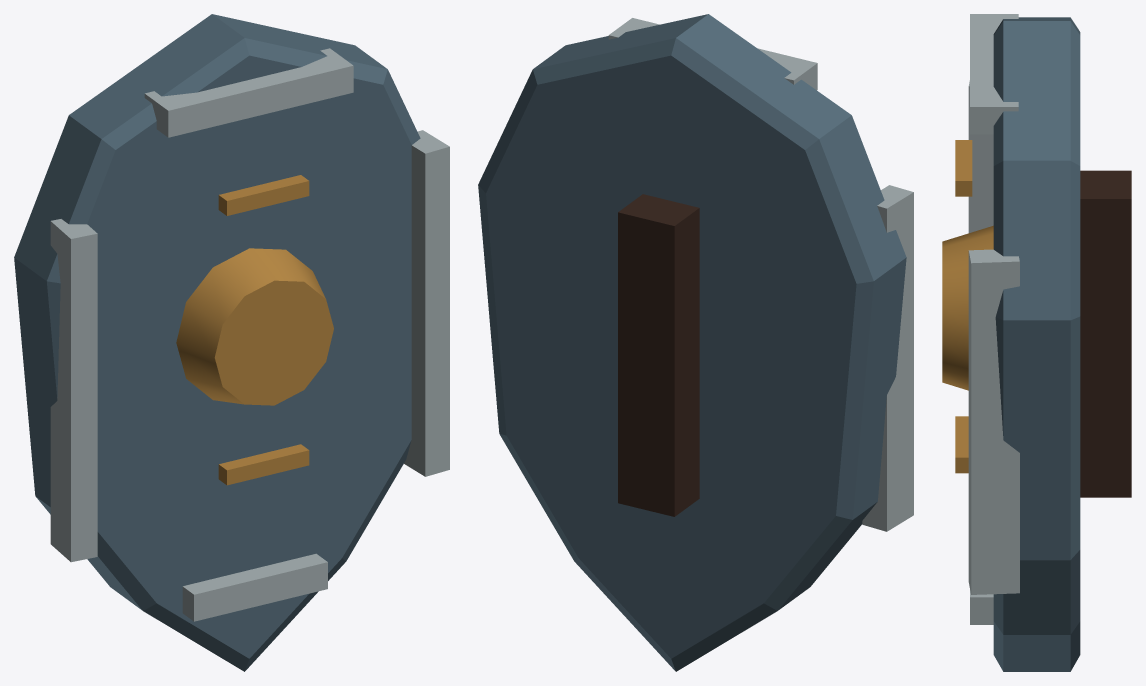
Rendered from shield.glb.
3 views of the same model, side by side, from view 1: azimuth 30°, elevation 25°; view 2: azimuth 150°, elevation 25°; view 3: azimuth 270°, elevation 25° (orthographic). The views are drawn at different scales.
Parts seen in each view (by area): view 1: shield-face, shield-rim-side (×2), shield-boss-dome, shield-rim-top, shield-rim-bottom, shield-rivet-row (×2); view 2: shield-face, shield-grip-bar, shield-rim-side, shield-rim-top; view 3: shield-face, shield-grip-bar, shield-rim-side (×2), shield-boss-dome, shield-rim-top, shield-rivet-row (×2), shield-rim-bottom.
Part boxes in pixels (x1,y1,x2,y2): shield-face: (14,14,420,671); shield-rim-side (×2): (50,130,449,562); shield-boss-dome: (176,248,333,405); shield-rim-top: (144,48,353,137); shield-rim-bottom: (182,553,327,621); shield-rivet-row (×2): (218,175,309,485); shield-face: (478,14,906,671); shield-grip-bar: (618,194,699,516); shield-rim-side: (862,185,913,531); shield-rim-top: (608,18,817,90); shield-face: (993,17,1080,671); shield-grip-bar: (1080,170,1131,497); shield-rim-side (×2): (968,80,1019,594); shield-boss-dome: (942,225,993,390); shield-rim-top: (970,14,1018,134); shield-rivet-row (×2): (955,140,972,473); shield-rim-bottom: (970,590,993,624).
Size of the model in its own units: 0.3845 by 0.5885 by 0.155.
